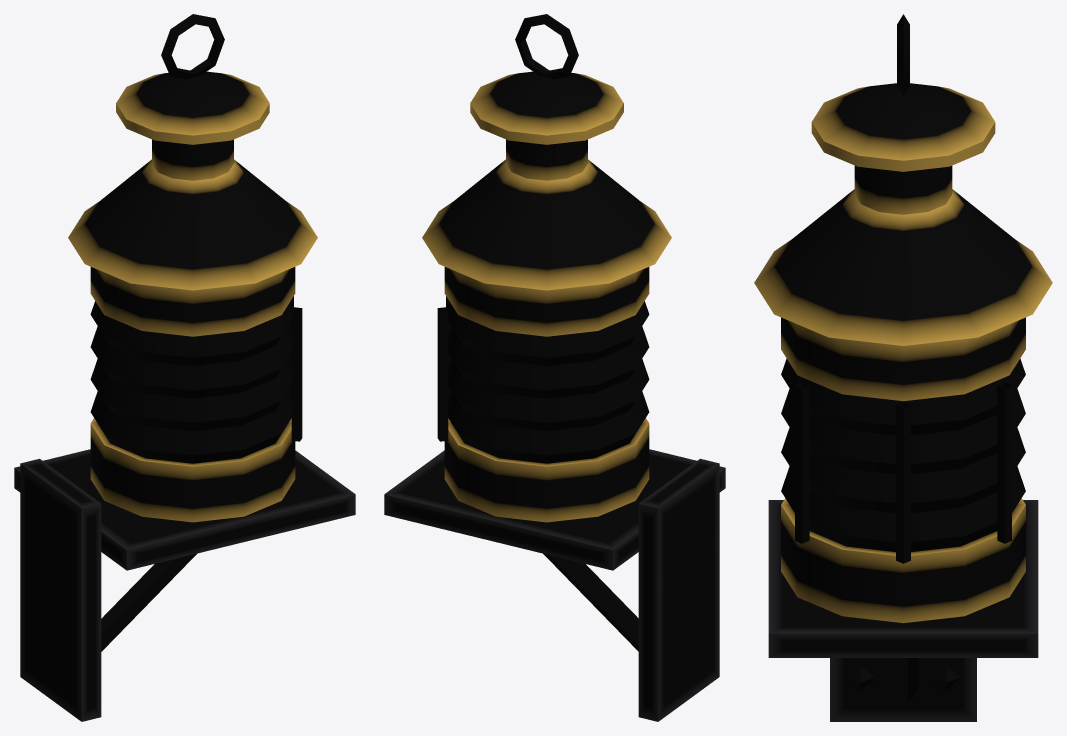
Rendered from masthead_light.glb.
3 views of the same model, side by side, from view 1: azimuth 30°, elevation 25°; view 2: azimuth 150°, elevation 25°; view 3: azimuth 270°, elevation 25° (orthographic). The views are drawn at different scales.
Visible parts, largest first — view 1: lantern, bracket, lens; view 2: lantern, bracket, lens; view 3: lantern, lens, bracket.
Boxes of the visible parts, <box> form: lantern: <box>68,14,317,522</box>; bracket: <box>14,449,355,721</box>; lens: <box>90,301,292,463</box>; lantern: <box>422,14,671,522</box>; bracket: <box>384,449,725,721</box>; lens: <box>447,301,649,463</box>; lantern: <box>754,14,1052,623</box>; lens: <box>781,358,1025,551</box>; bracket: <box>768,500,1038,721</box>.
Size of the model in its own units: 0.282 by 0.701 by 0.244.
